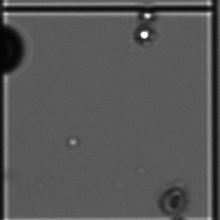Dead Cell: (159, 182, 189, 212)
Living Cell: (135, 24, 155, 45), (138, 8, 155, 24)
